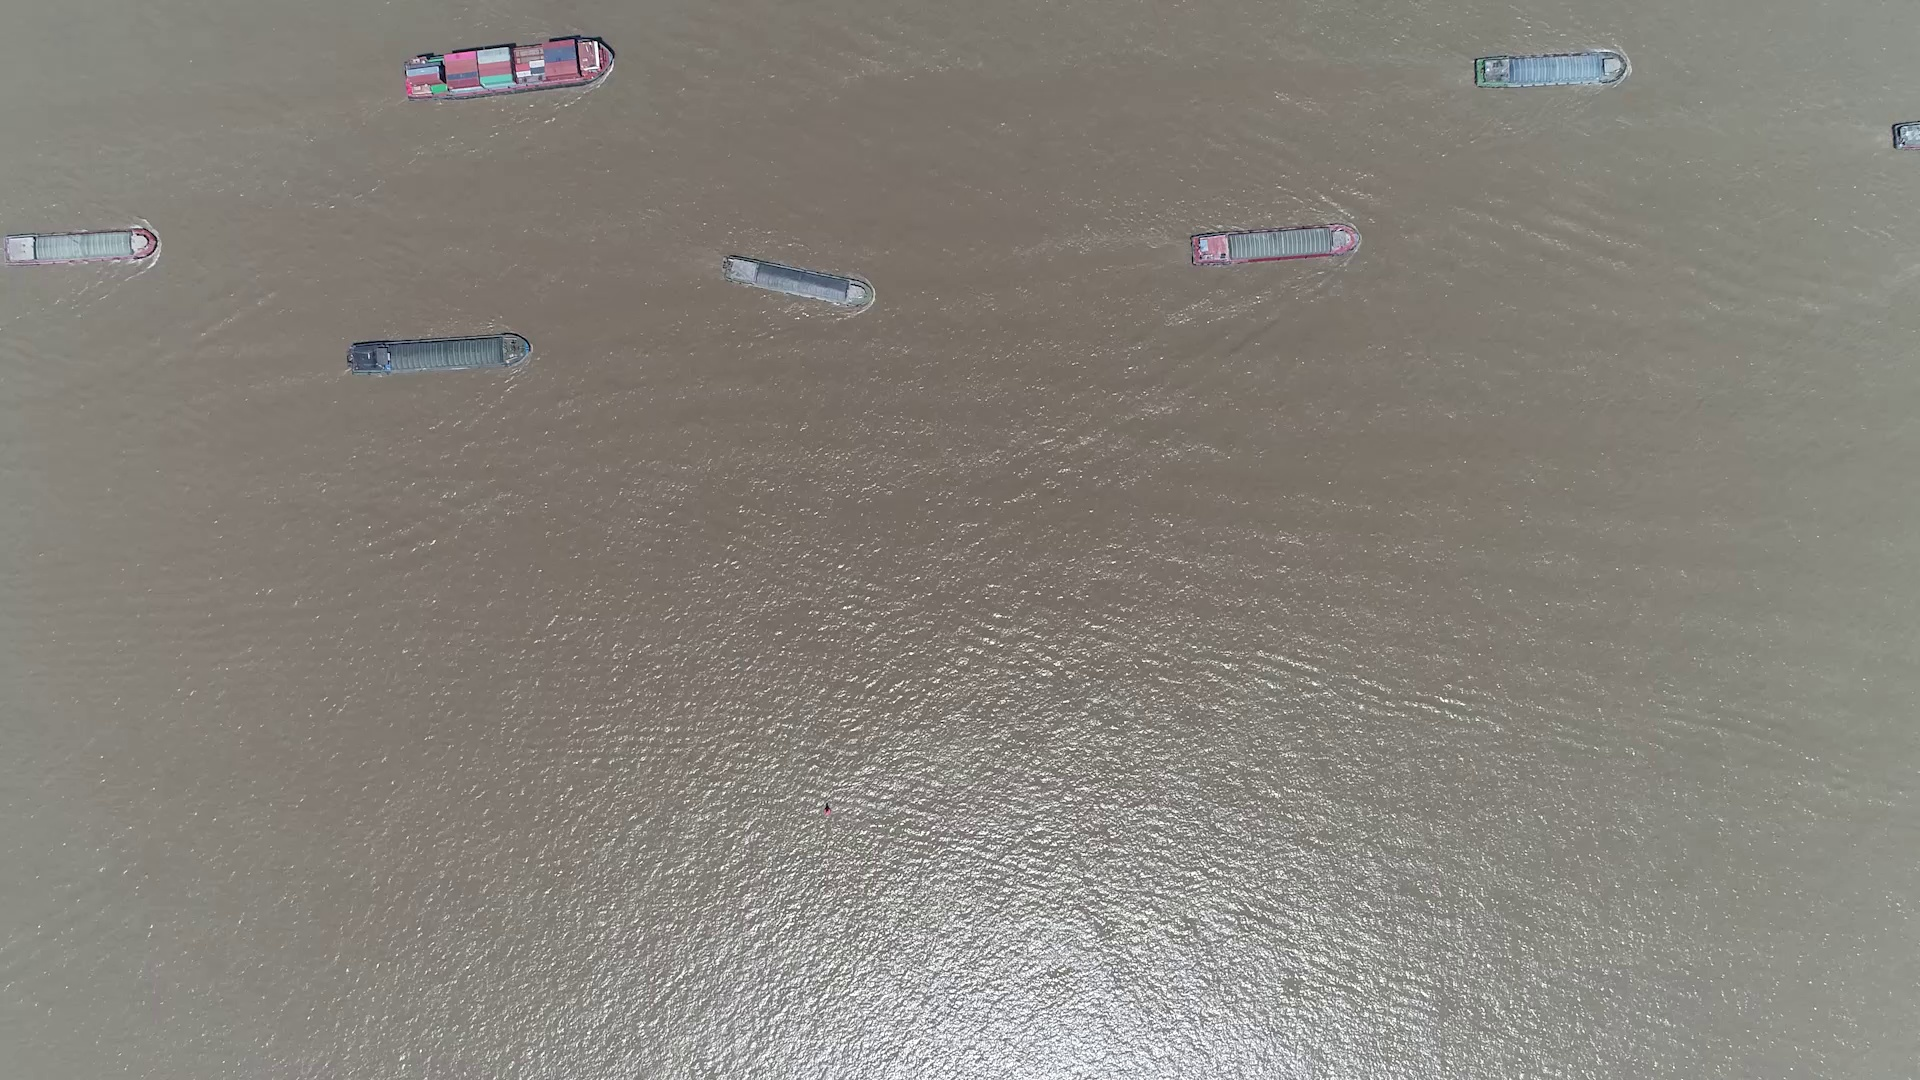ship: (404, 38, 615, 99), (345, 334, 531, 377), (721, 255, 872, 306), (1189, 225, 1360, 266), (0, 229, 160, 266), (1473, 53, 1629, 88)
